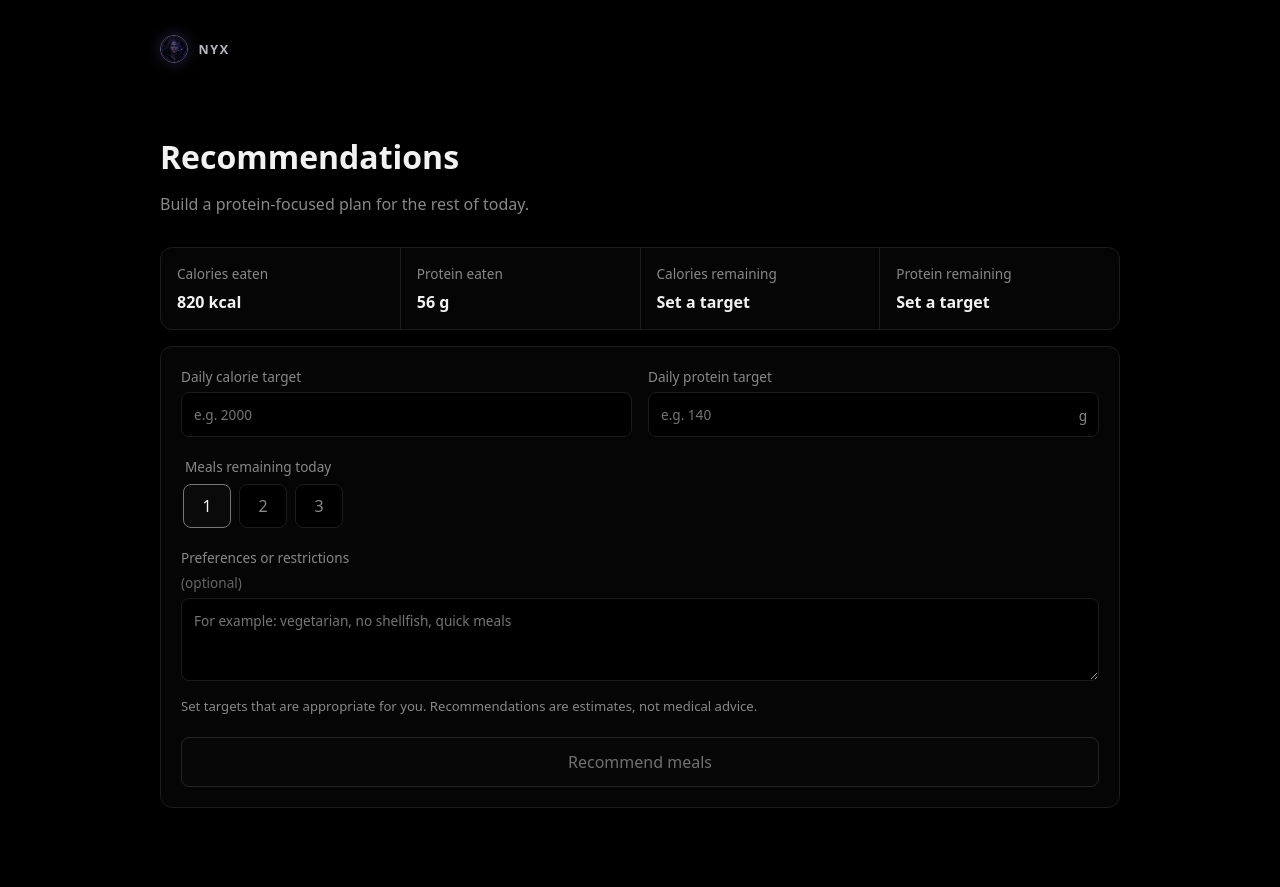
Test: RecommendationsPage › refreshes today totals and submits the selected targets
This screenshot has width=1280, height=887.
Expected: the text "820 kcal" is shown, [177, 291, 241, 313]
Expected: the text "56 g" is shown, [417, 291, 449, 313]
In the number field labelled "Daily calorie target": coordinates (406, 415) [181, 392, 632, 437], type "1800"
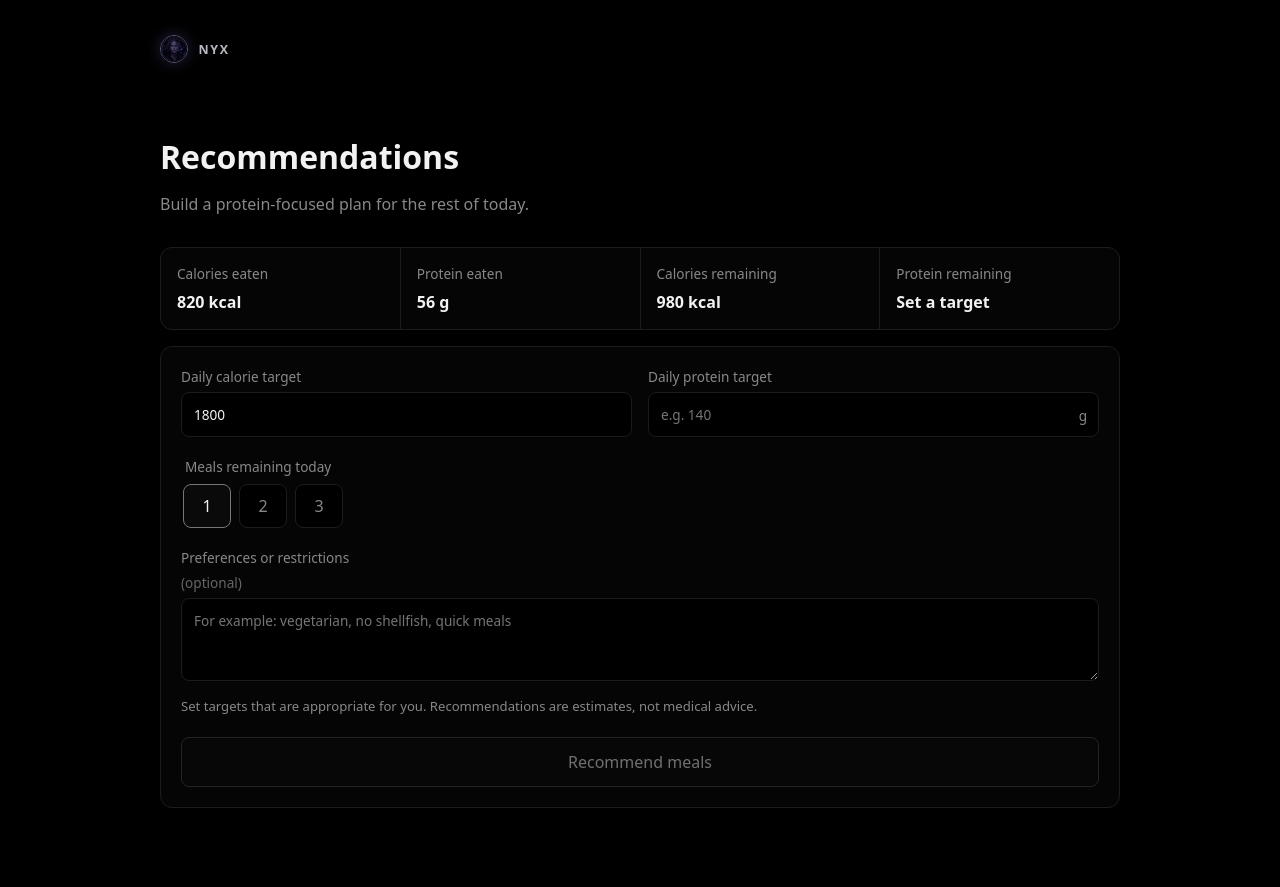
In the number field labelled "Daily protein target g": coordinates (874, 415) [648, 392, 1099, 437], type "140"
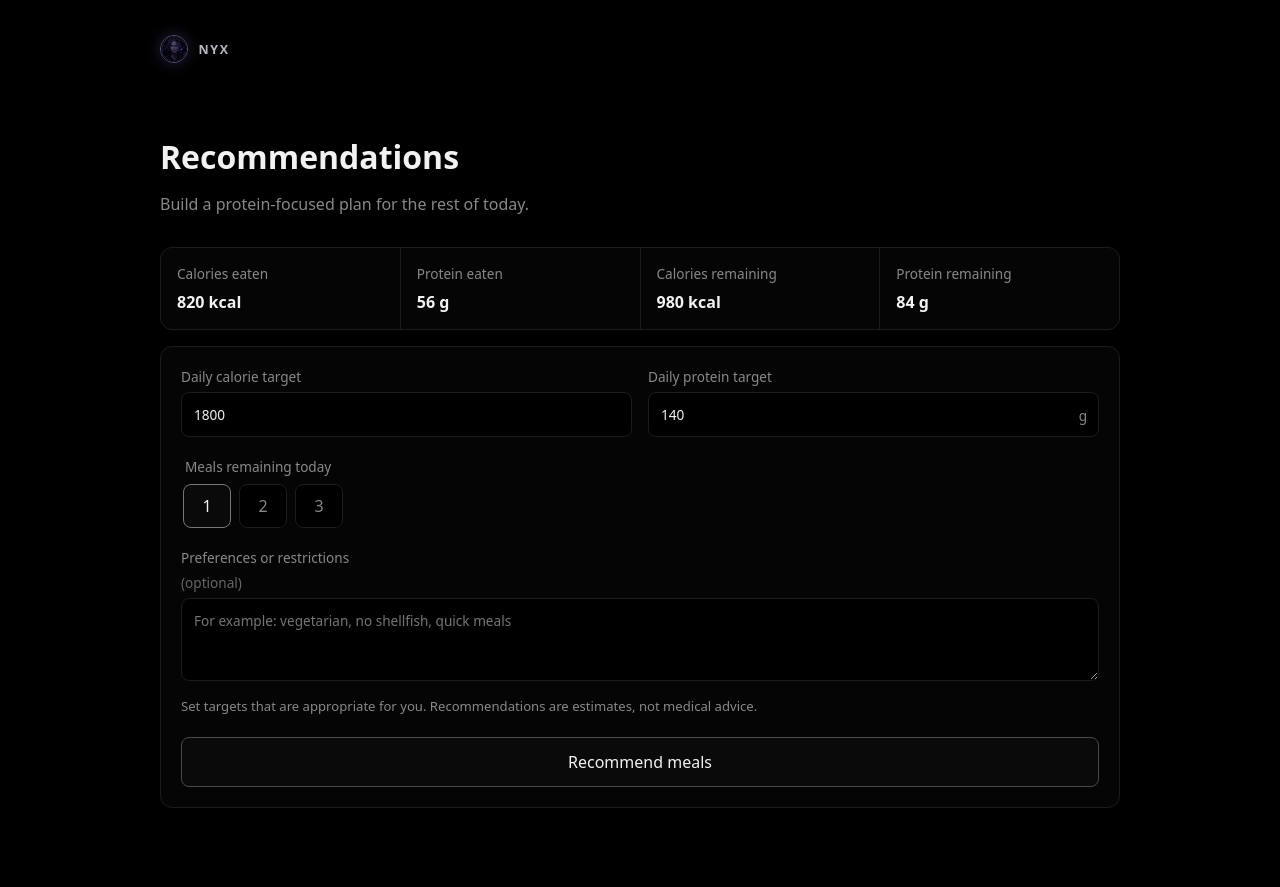
Click the button "2": coordinates (263, 506) [239, 484, 287, 528]
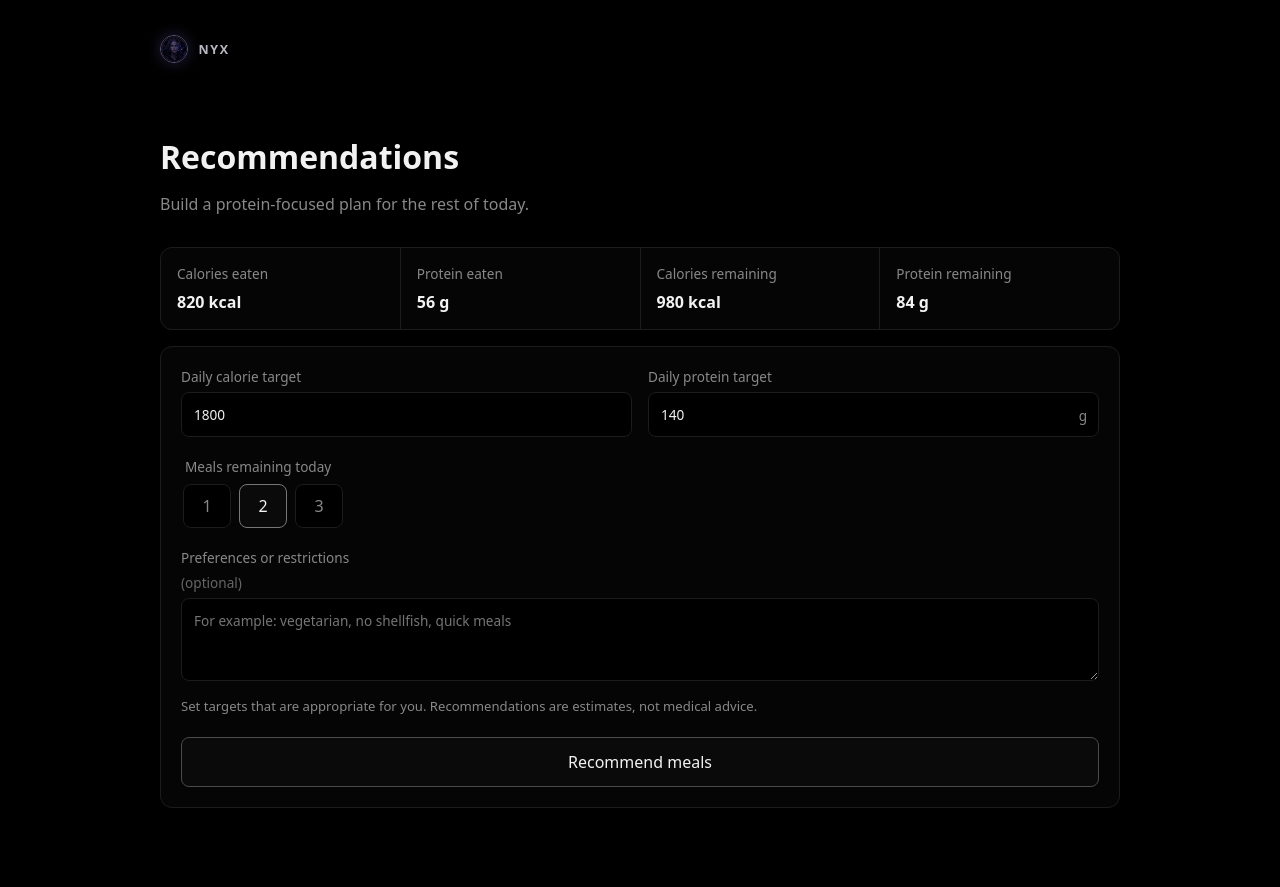
In the text box labelled "Preferences or restrictions (optional)": coordinates (640, 640) [181, 598, 1099, 681], type "No shellfish"
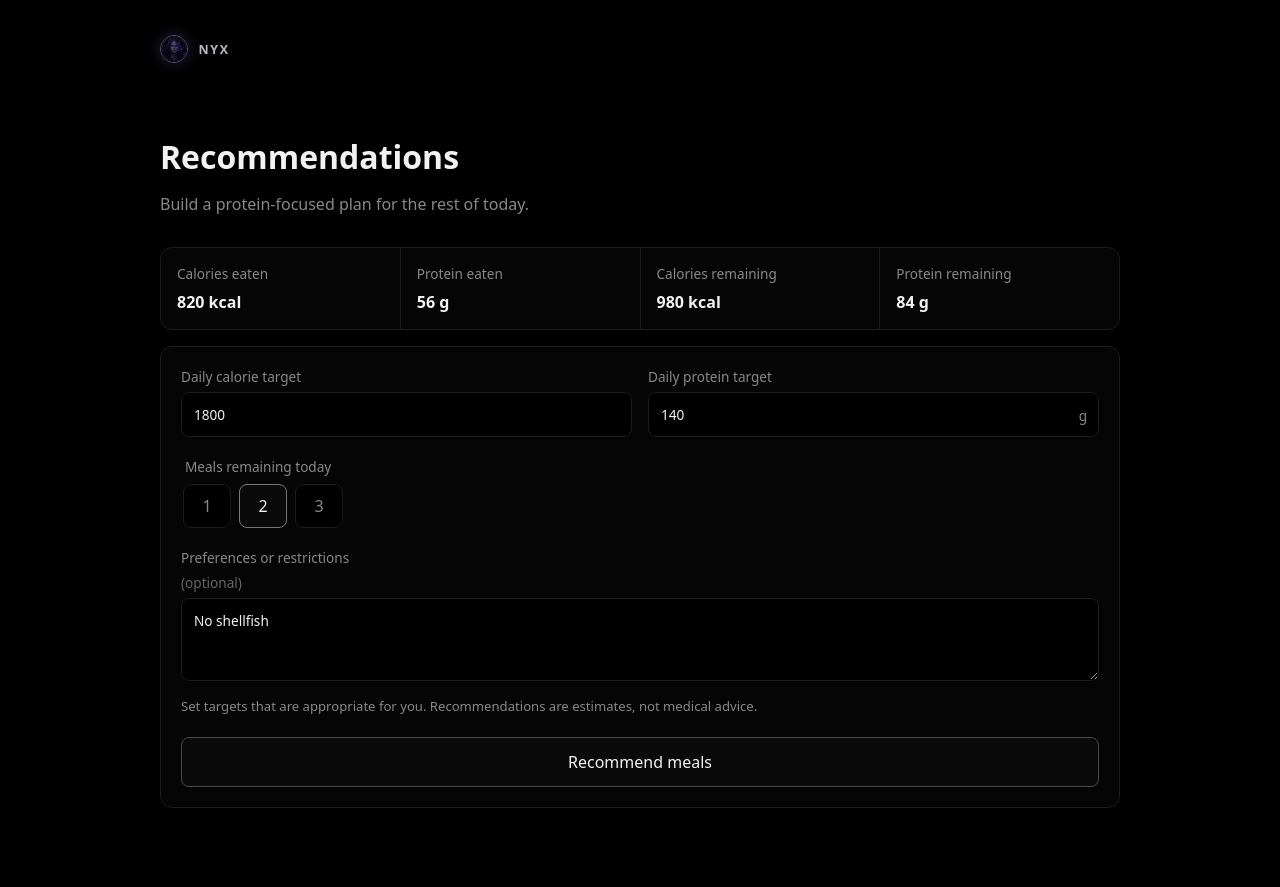
Click the button "Recommend meals": coordinates (640, 762) [181, 737, 1099, 787]
(page scrolled)
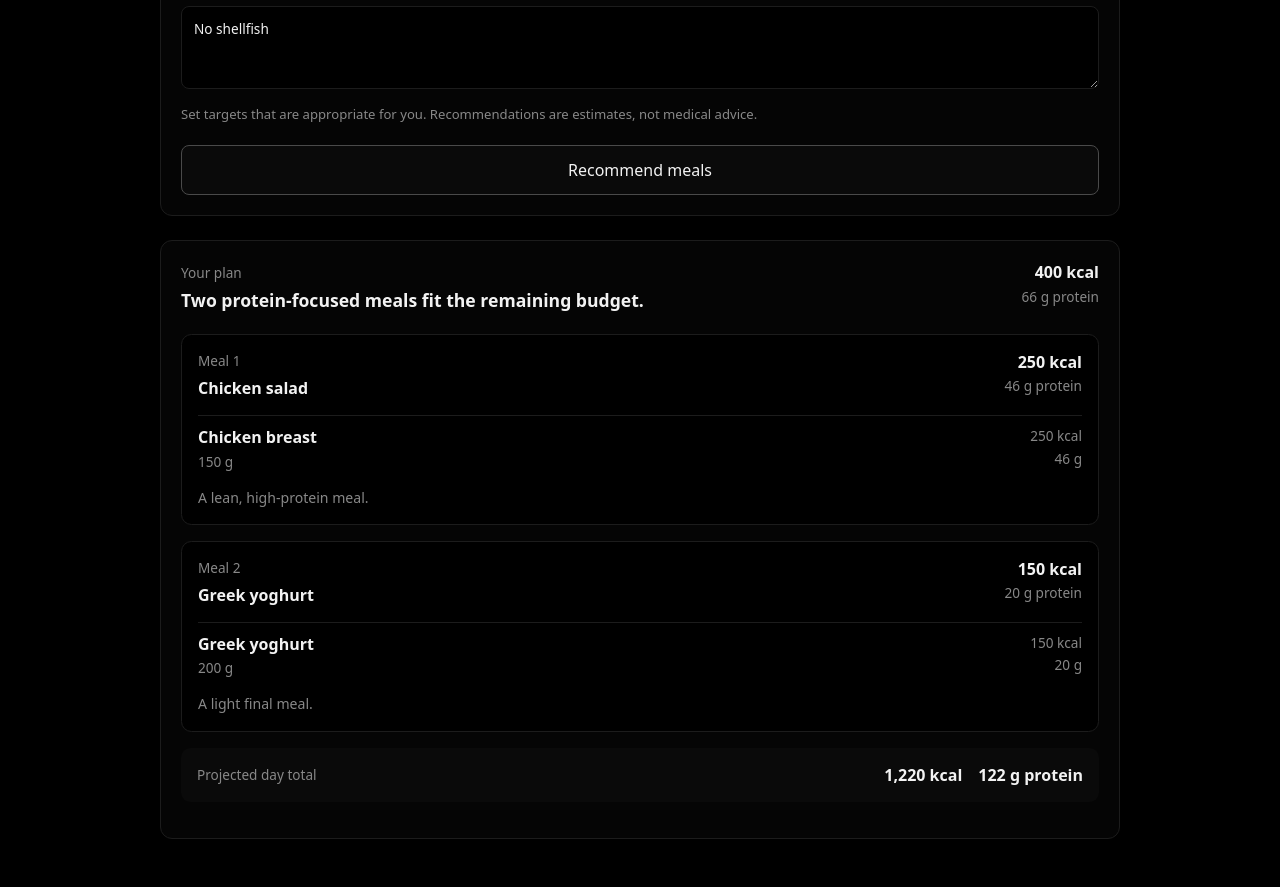
Now the heading "Chicken salad" is shown, box [198, 377, 308, 399]
Now the text "1,220 kcal" is shown, box [884, 764, 962, 786]
